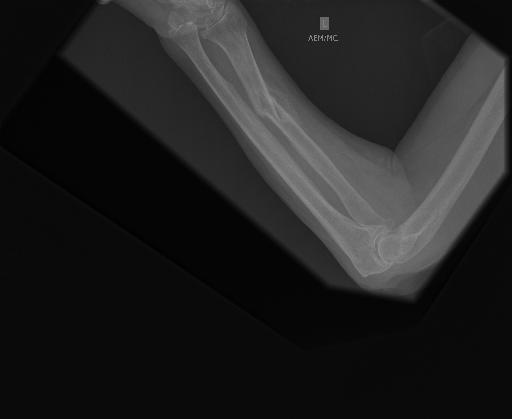forearm fracture: (236, 70, 306, 148)
